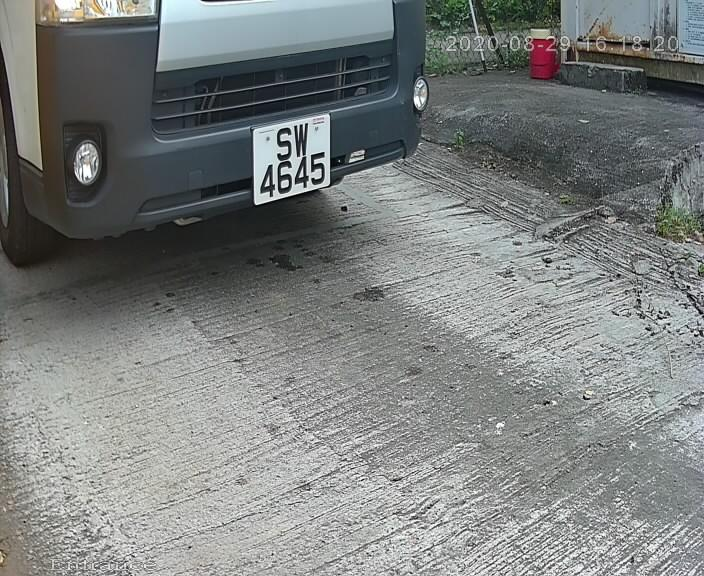License Plate: (243, 106, 340, 211)
